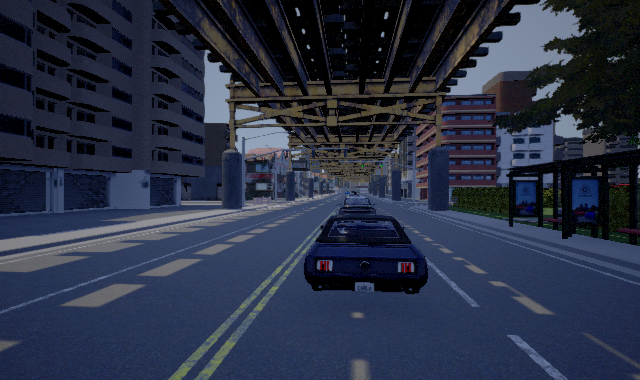traffic_light: (381, 162, 383, 167), (362, 162, 364, 167)
vehicle: (304, 191, 428, 294)
